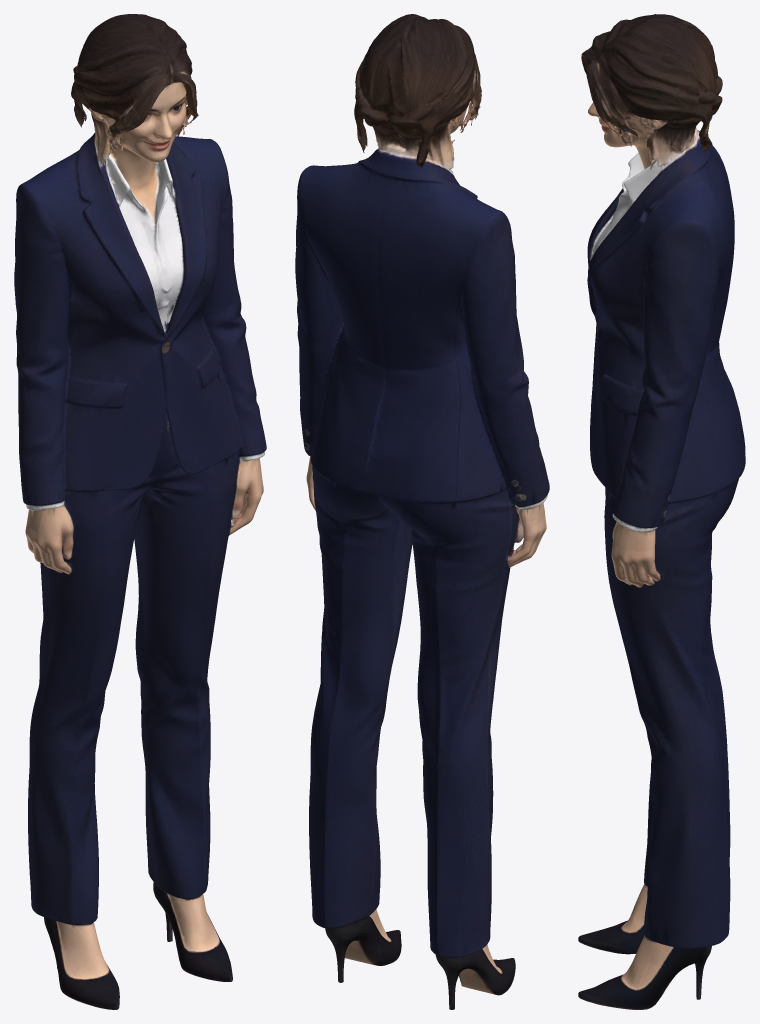
Rendered from receptionist-draco.glb.
3 views of the same model, side by side, from view 1: azimuth 30°, elevation 25°; view 2: azimuth 150°, elevation 25°; view 3: azimuth 270°, elevation 25° (orthographic).
Bounding box in the file's own units: 0.4942 × 1.9 × 0.3016.
1 material, 1 textured.
